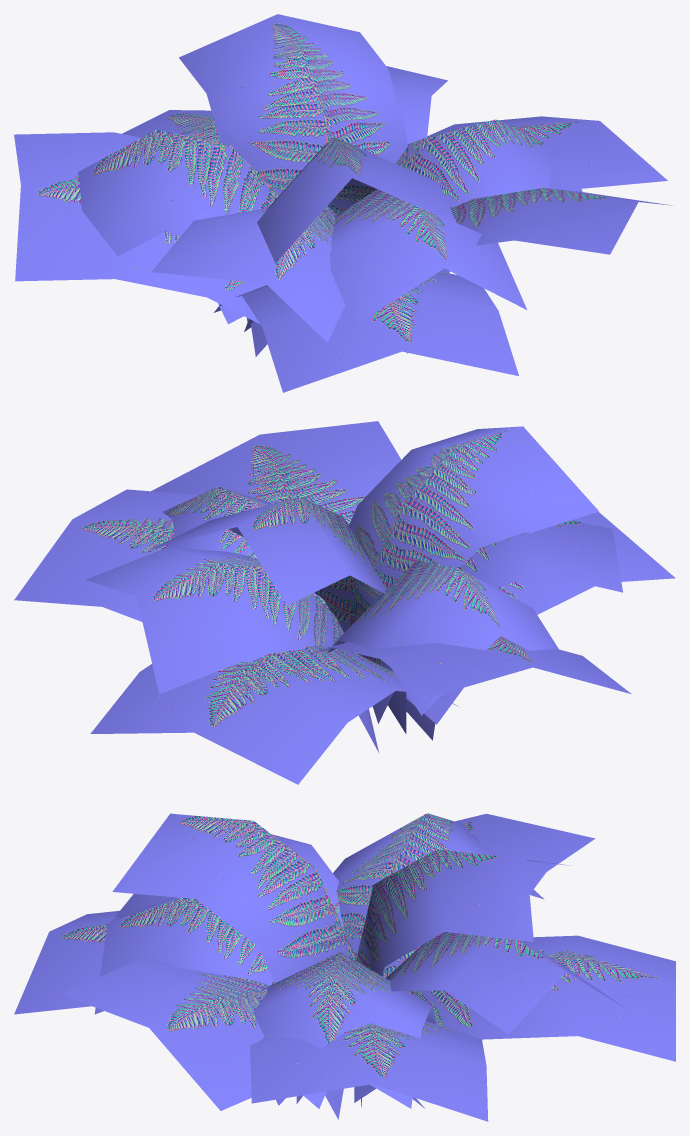
The model's file is plant1.obj.
The picture shows the model from 3 angles, top to bottom: view 1: azimuth 30°, elevation 25°; view 2: azimuth 150°, elevation 25°; view 3: azimuth 270°, elevation 25°; orthographic projection.
Visible parts, largest first — view 1: leaf3.001_Plane.008; view 2: leaf3.001_Plane.008; view 3: leaf3.001_Plane.008.
Boxes of the visible parts, x1,y1,x2,y2 form: leaf3.001_Plane.008: (14, 14, 672, 392); leaf3.001_Plane.008: (14, 421, 675, 784); leaf3.001_Plane.008: (14, 813, 675, 1121).
Size of the model in its own units: 1.89 by 0.7915 by 1.9.
